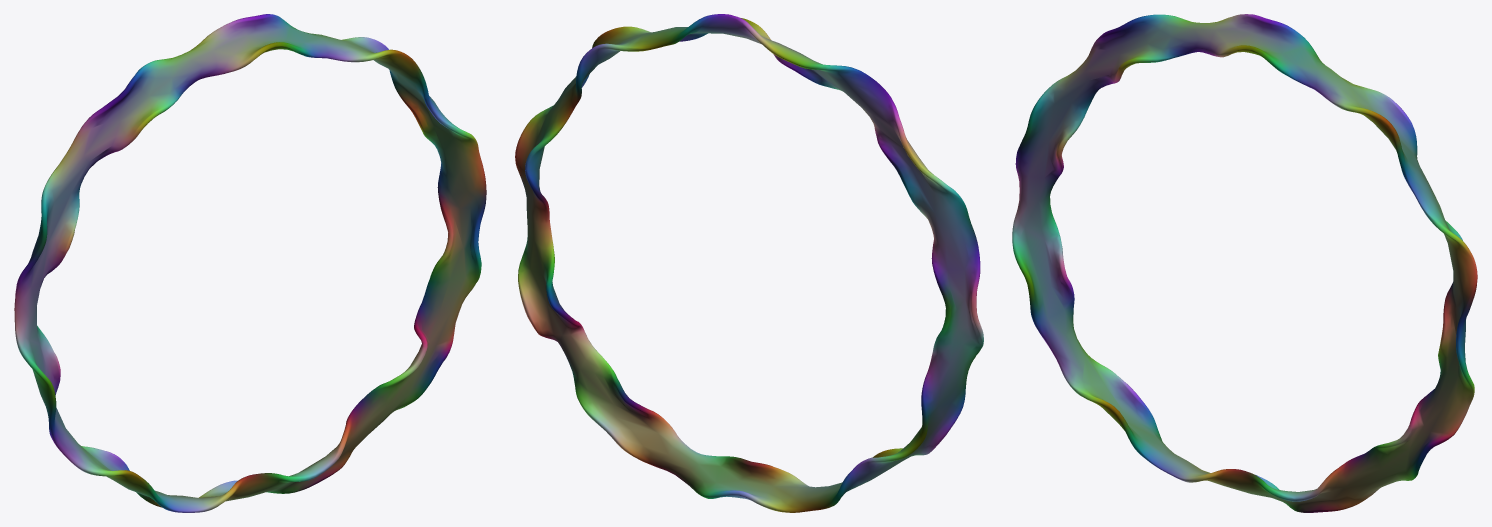
Rendered from RibbonCircle.fbx.
3 renders of one model, left to right at view 1: azimuth 30°, elevation 25°; view 2: azimuth 150°, elevation 25°; view 3: azimuth 330°, elevation 25°, orthographic.
Visible parts, largest first — view 1: RibbonCircle; view 2: RibbonCircle; view 3: RibbonCircle.
Part boxes in pixels (x1,y1,x2,y2): RibbonCircle: (14,14,486,512); RibbonCircle: (515,14,983,512); RibbonCircle: (1012,14,1477,512).
Bounding box in the file's own units: 2.17 × 2.15 × 0.2004.
